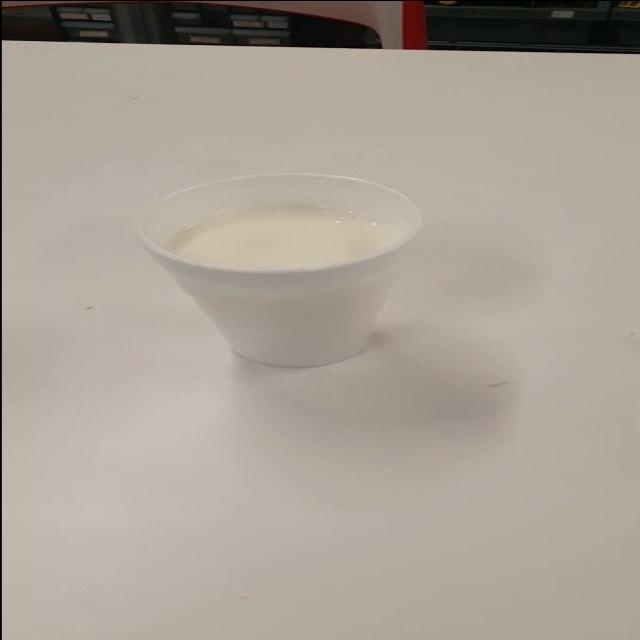Milk: (120, 162, 473, 366)
